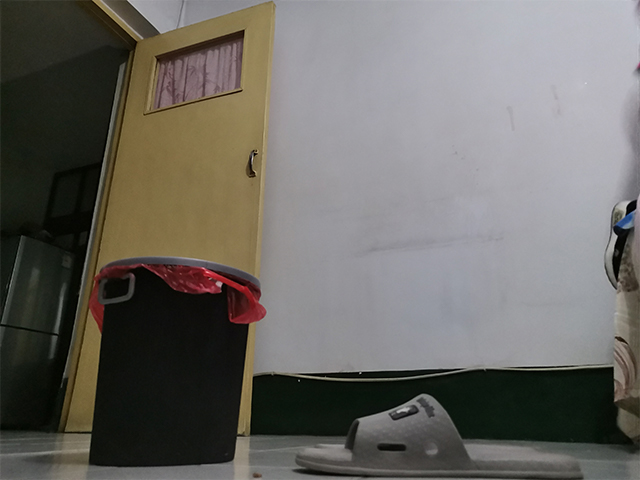slippers: (290, 391, 590, 480)
trashcan: (85, 254, 269, 468)
